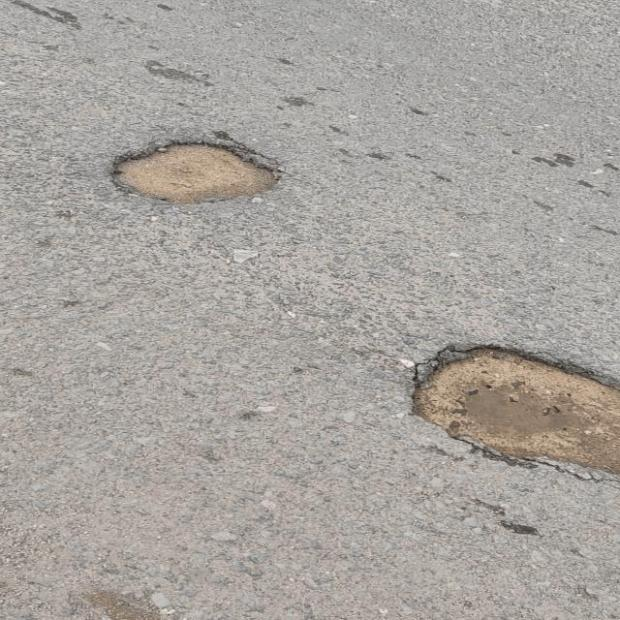lubang: (413, 347, 619, 474), (112, 140, 279, 203)
